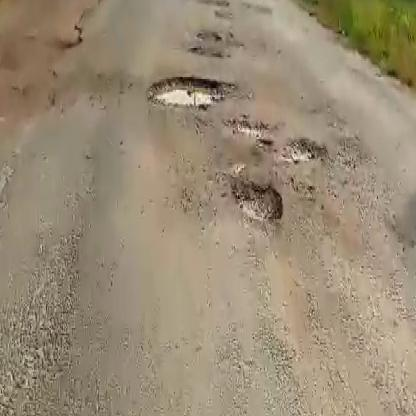pothole: (146, 74, 240, 122), (229, 173, 285, 223), (281, 136, 329, 163), (231, 122, 270, 145)
